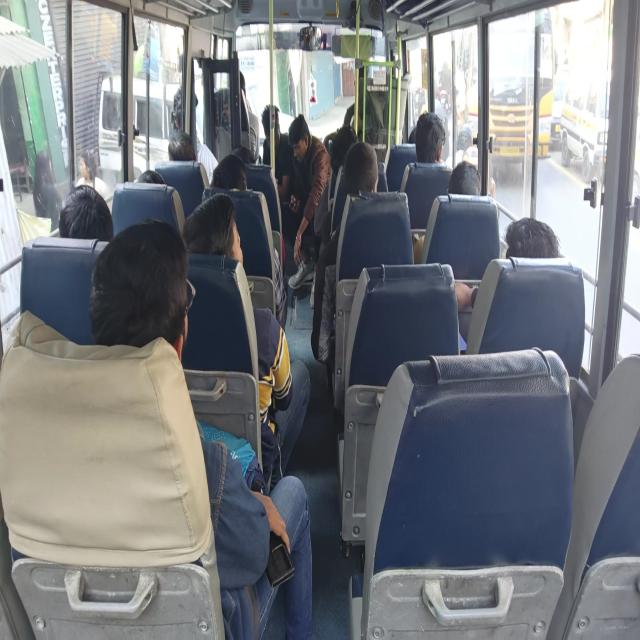person: (121, 249, 197, 361), (194, 206, 245, 266), (61, 194, 107, 245), (352, 144, 390, 205), (132, 162, 178, 201), (456, 156, 491, 207), (505, 222, 548, 259), (169, 92, 203, 130), (418, 120, 448, 162), (220, 159, 252, 196), (290, 137, 321, 174), (349, 42, 374, 78), (224, 66, 252, 95), (263, 111, 288, 137), (229, 145, 256, 168), (172, 130, 194, 156), (332, 128, 351, 158)
